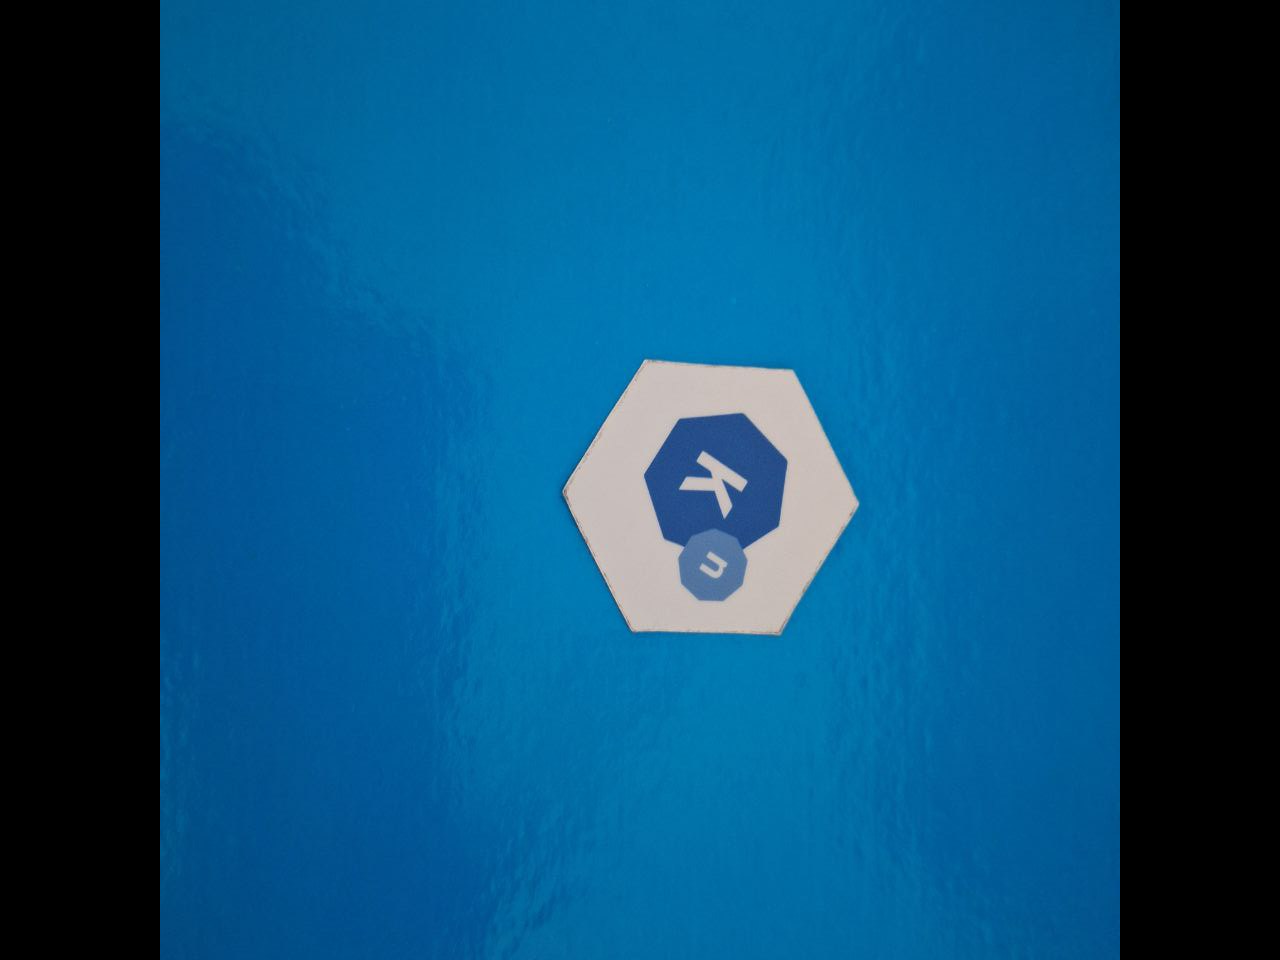knative: (644, 410, 791, 603)
